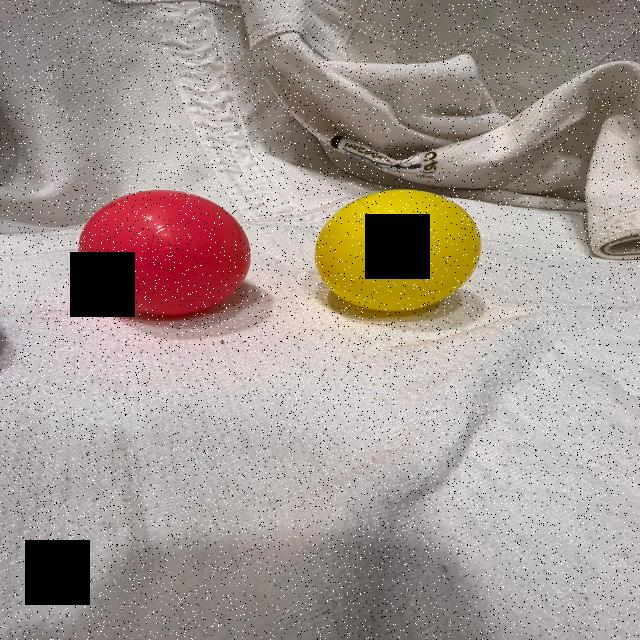ball: (72, 187, 253, 322), (312, 188, 483, 315)
